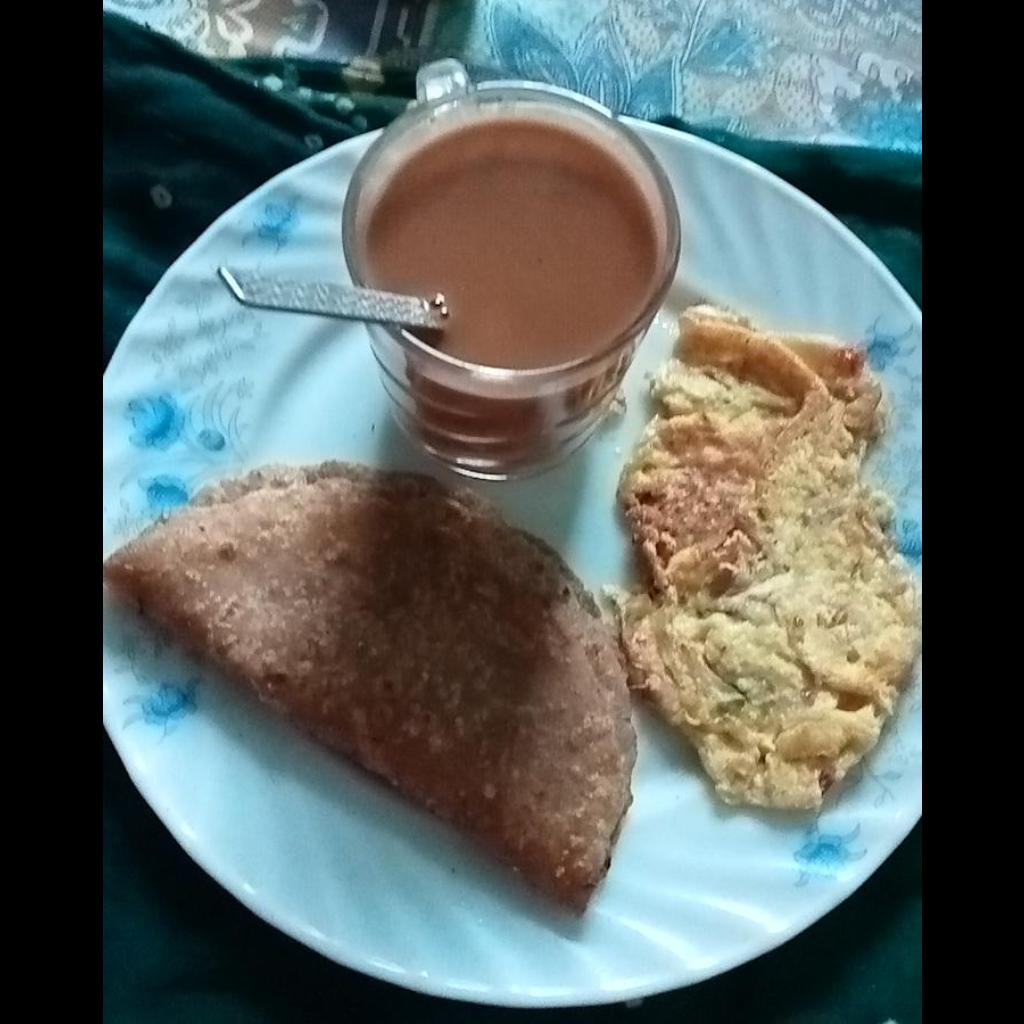cha: (370, 120, 653, 363)
egg-poached: (605, 299, 919, 813)
ruti: (102, 465, 630, 913)
